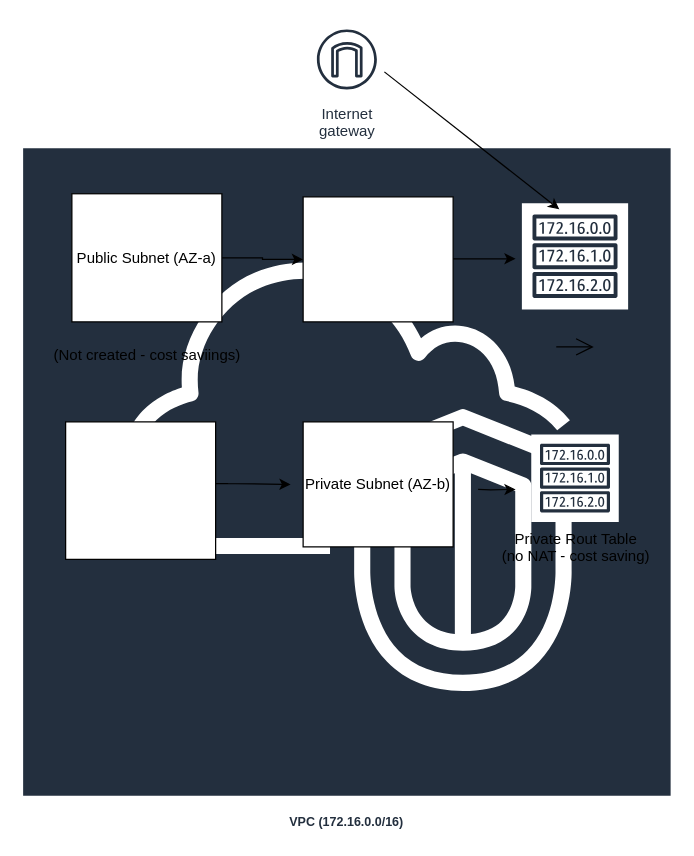
The diagram is 694 pixels wide and 856 high, and some of its shapes have lost their labels. The centre of each missing label's shape, as x and y in pixels:
Private Subnet (AZ-a): point (140, 490)
Public Rout Table 0.0.0.0/0 IGW: point (574, 255)
Public Subnet (AZ-b): point (377, 259)
